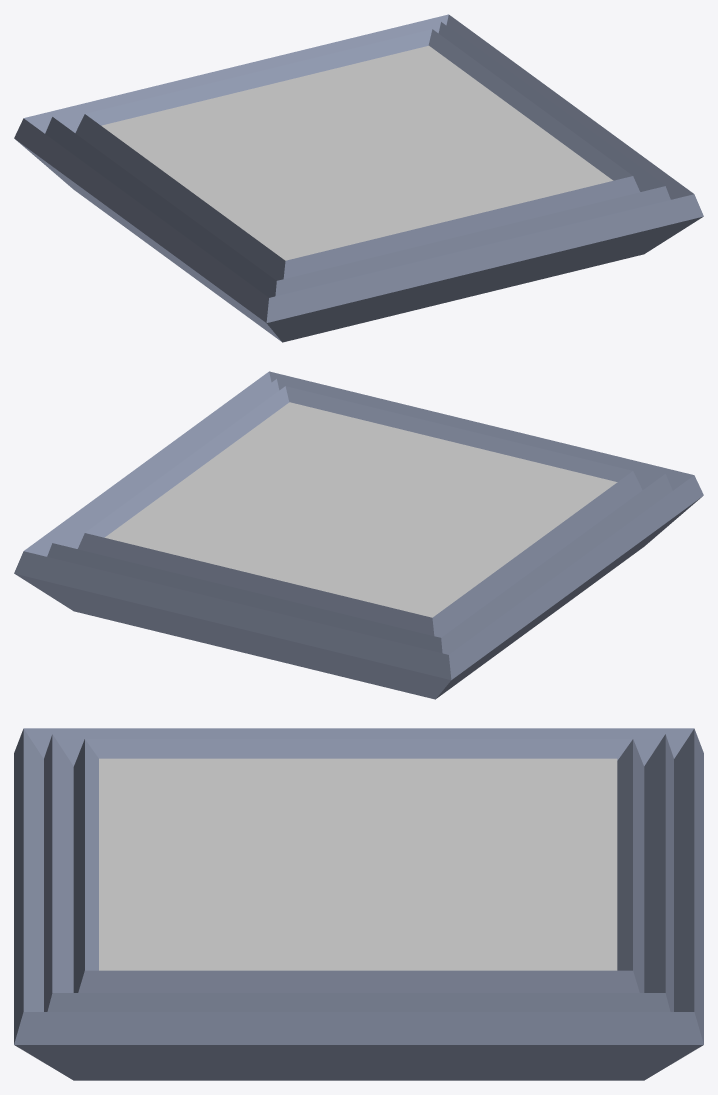
File: frame.fbx
3 renders of one model, top to bottom at view 1: azimuth 30°, elevation 25°; view 2: azimuth 150°, elevation 25°; view 3: azimuth 270°, elevation 25°, orthographic. The views are drawn at different scales.
Parts seen in each view (by area): view 1: Rectangle001, Box001; view 2: Rectangle001, Box001; view 3: Rectangle001, Box001.
Boxes of the visible parts, bbox=[...] form: Rectangle001: bbox=[14, 14, 703, 342]; Box001: bbox=[101, 45, 613, 260]; Rectangle001: bbox=[14, 371, 703, 699]; Box001: bbox=[104, 402, 617, 617]; Rectangle001: bbox=[14, 728, 703, 1080]; Box001: bbox=[99, 758, 617, 970].
Size of the model in its own units: 269 by 45.28 by 269.
